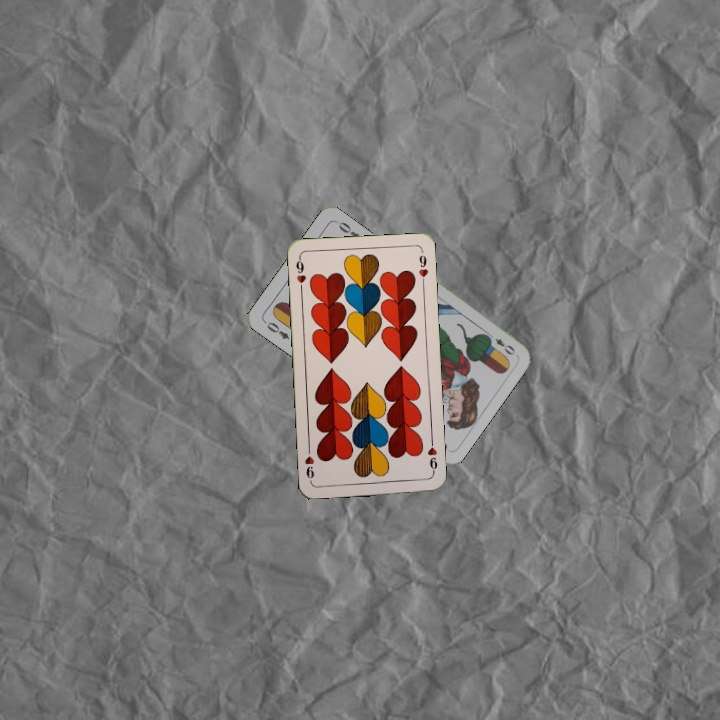EO: (483, 329, 518, 358), (260, 317, 292, 342)
H9: (292, 254, 308, 294), (424, 436, 440, 476)
